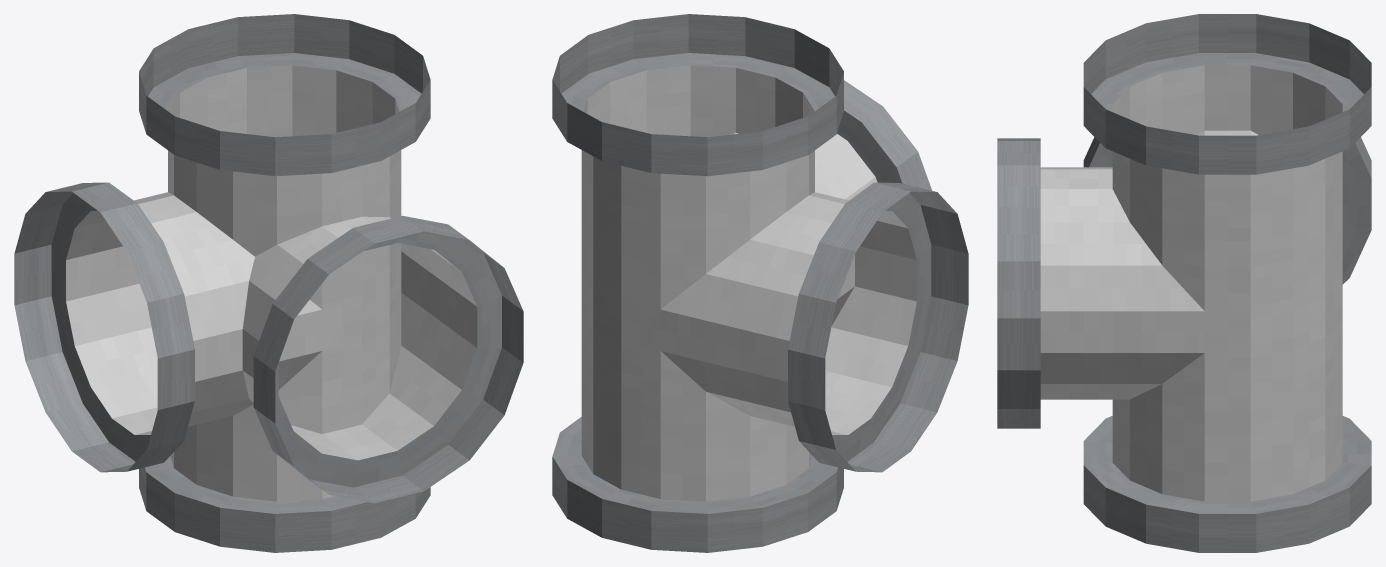
Rendered from connection_27.obj.
The picture shows the model from 3 angles, left to right: view 1: azimuth 30°, elevation 25°; view 2: azimuth 150°, elevation 25°; view 3: azimuth 270°, elevation 25°; orthographic projection.
Bounding box in the file's own units: 0.8125 × 1 × 0.8125.
